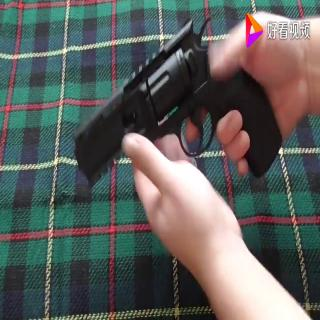gun: (73, 13, 281, 186)
